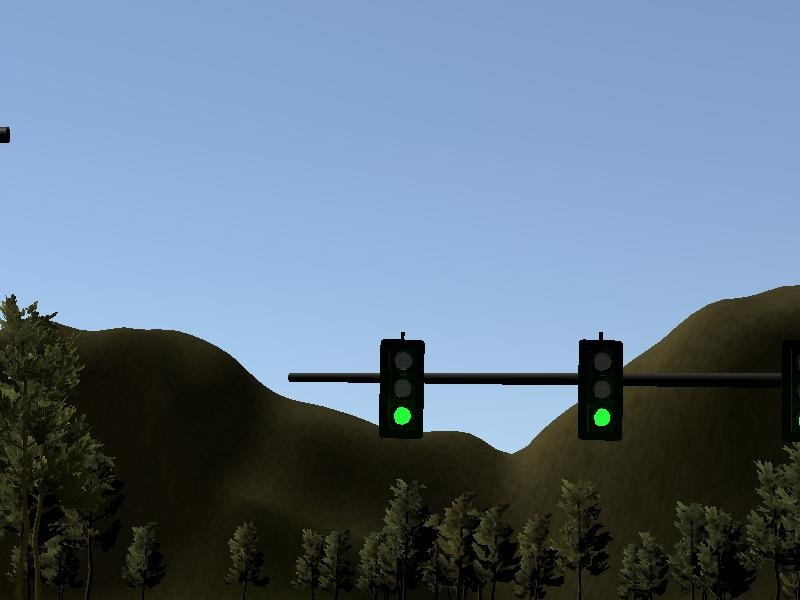green: (376, 327, 436, 445), (575, 328, 628, 451)
